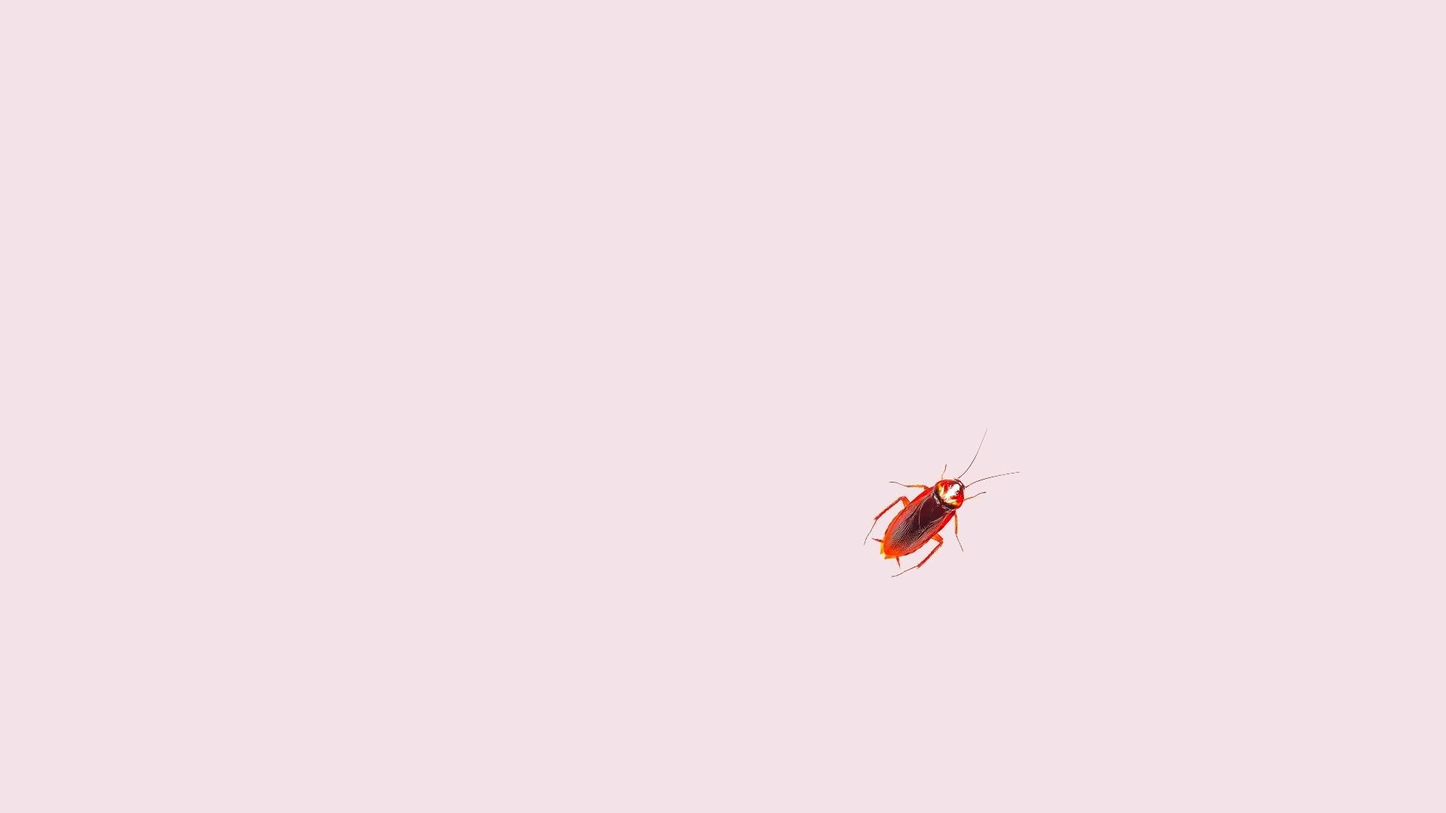cockroach: (854, 422, 999, 579)
